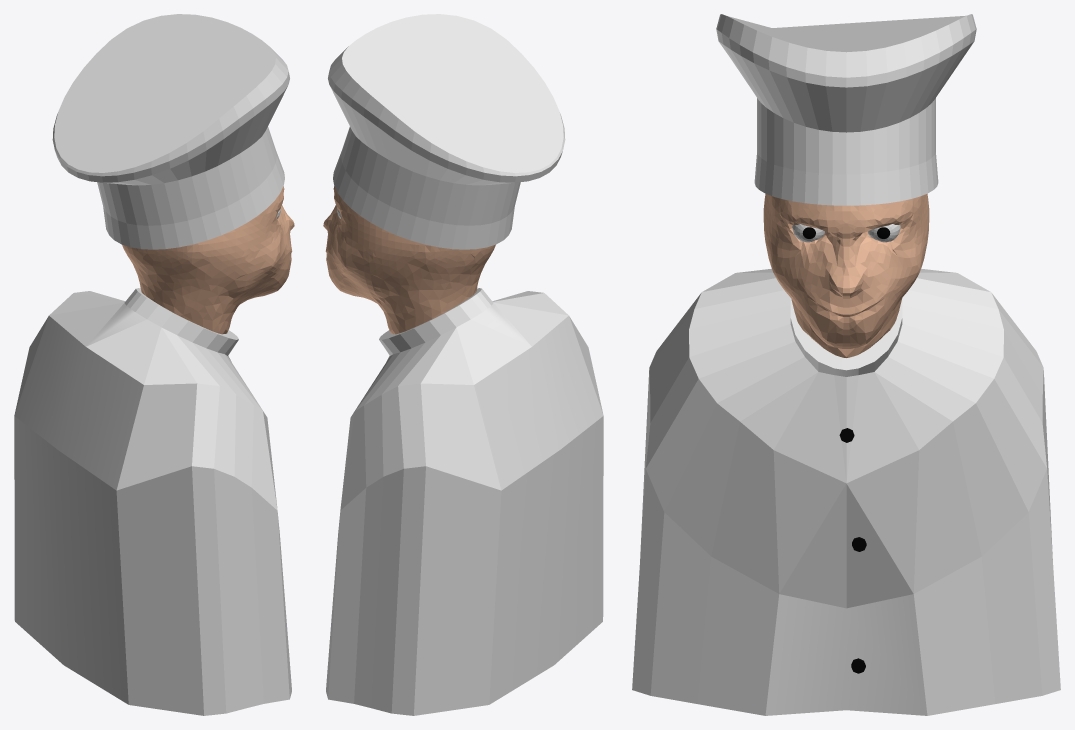
File: koch.glb
The picture shows the model from 3 angles, left to right: view 1: azimuth 30°, elevation 25°; view 2: azimuth 150°, elevation 25°; view 3: azimuth 270°, elevation 25°; orthographic projection. The views are drawn at different scales.
Visible parts, largest first — view 1: Oberteil, Hut, Kopf; view 2: Oberteil, Hut, Kopf; view 3: Oberteil, Hut, Kopf, Augen.
Boxes of the visible parts, x1,y1,x2,y2 form: Oberteil: (14,288,291,715); Hut: (52,14,289,249); Kopf: (122,186,294,334); Oberteil: (326,288,603,715); Hut: (328,14,565,249); Kopf: (323,186,495,334); Oberteil: (632,268,1060,715); Hut: (716,14,976,205); Kopf: (763,193,929,357); Augen: (792,224,900,242).
Size of the model in its own units: 2.77 by 6.52 by 3.73.
